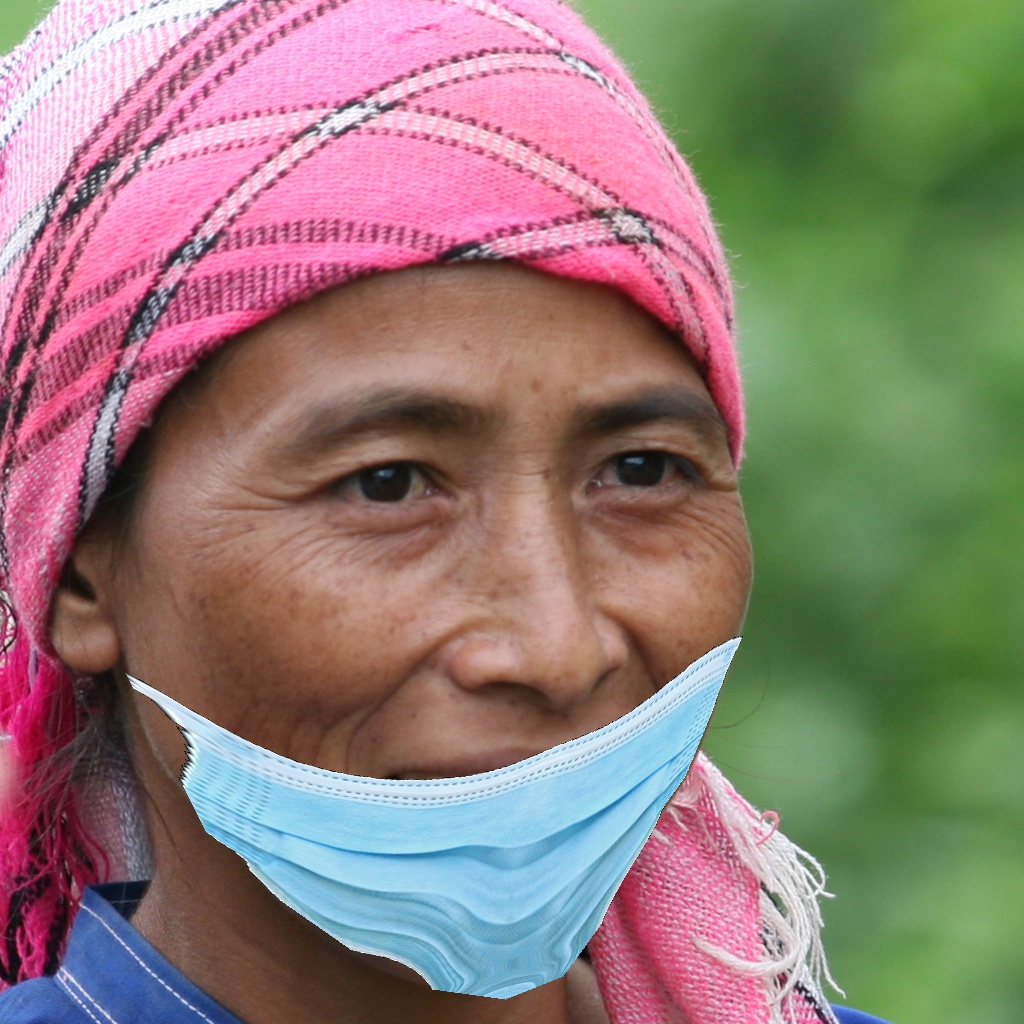Mask_Mouth_Chin: (127, 389, 752, 1002)
